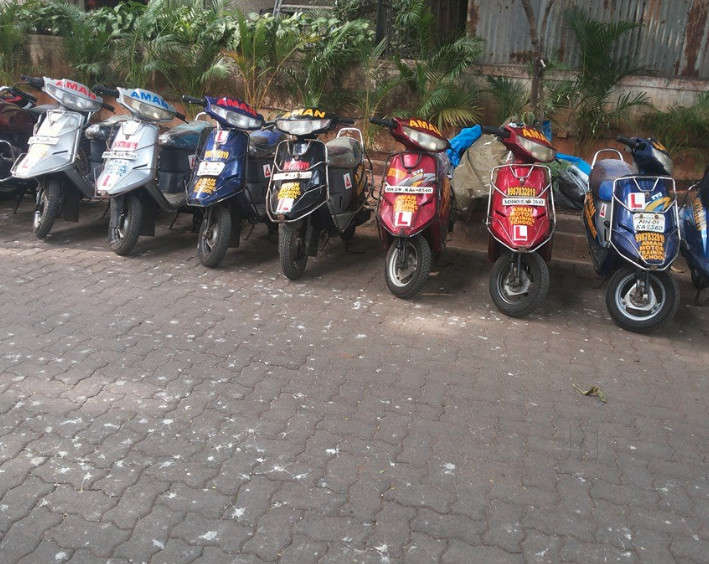Bike: (578, 145, 686, 331), (267, 104, 370, 297), (362, 111, 461, 300), (176, 91, 271, 279), (481, 122, 568, 326)
